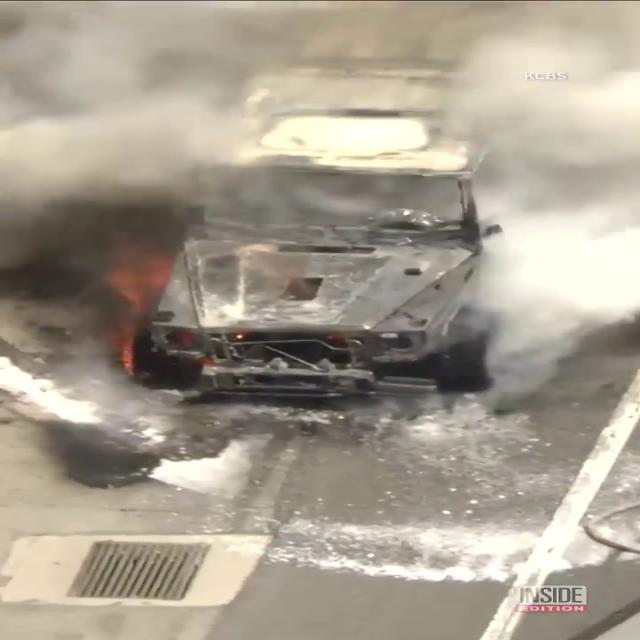Smoke: (1, 0, 638, 368), (2, 0, 374, 366), (409, 7, 640, 373)
